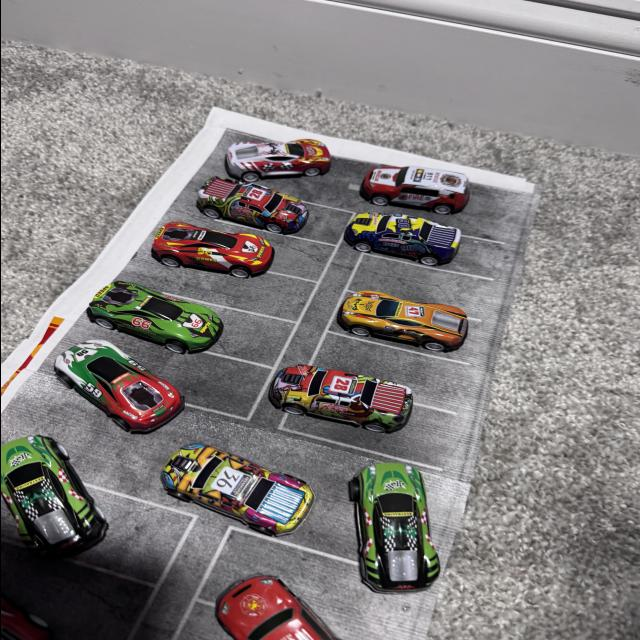Car: (281, 438, 468, 596), (115, 434, 327, 546), (0, 304, 172, 430), (253, 317, 432, 433), (309, 271, 499, 378), (0, 432, 124, 582), (272, 212, 476, 286), (100, 281, 230, 368), (197, 561, 339, 640), (115, 218, 286, 272), (199, 173, 321, 239), (230, 121, 339, 185), (316, 158, 486, 190)
